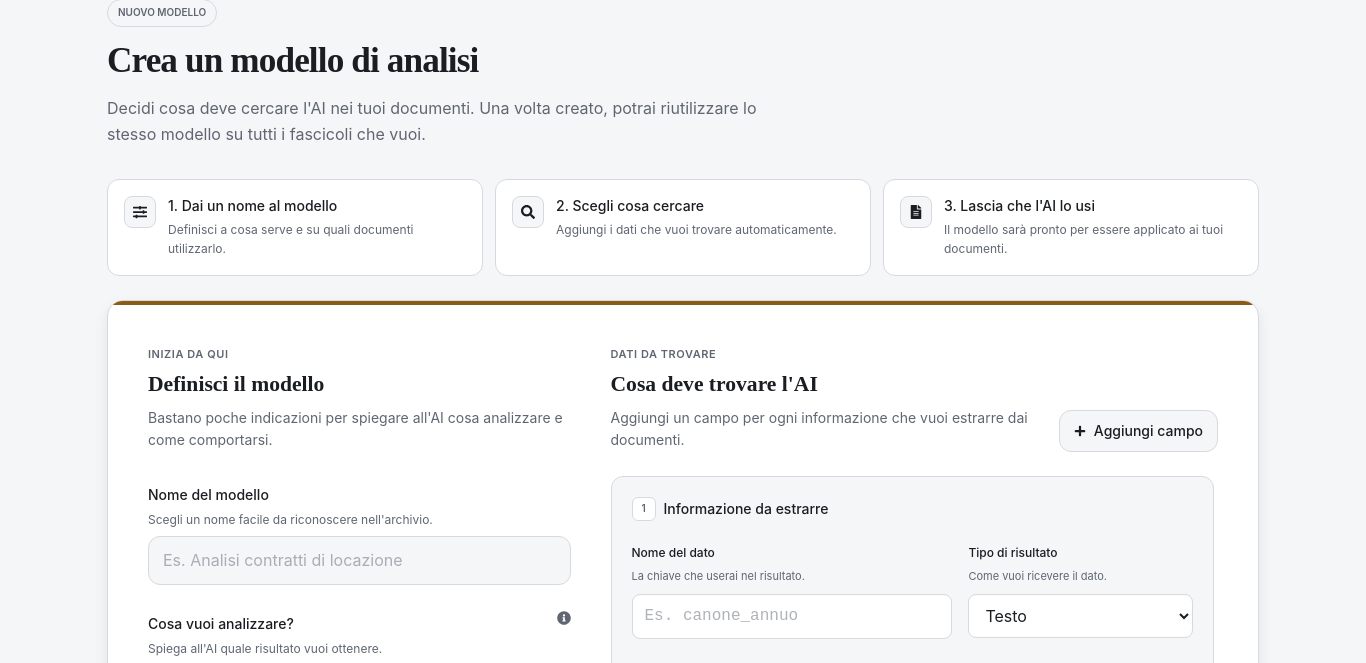
Test: PromptCreator Component Suite › Gestione Campi Dinamici (Fields Array) › mostra il campo opzioni enum solo quando il tipo selezionato è 'enum'
Expected: the field with placeholder "es. confermato, sospeso, risolto" is not shown
Select "Scelta predefinita" in the dropdown: (1081, 616) [968,594,1193,638]
(page scrolled)
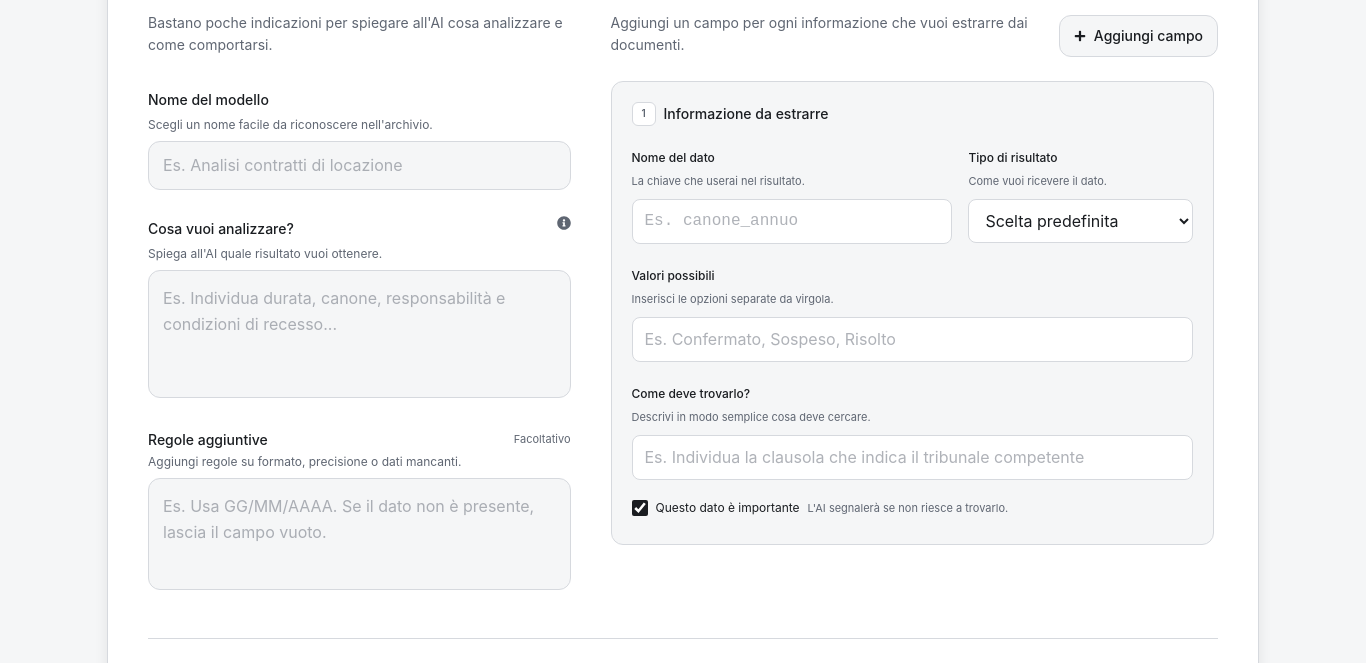
Now the field with placeholder "Es. Confermato, Sospeso, Risolto" is shown, box [632,317,1193,362]
